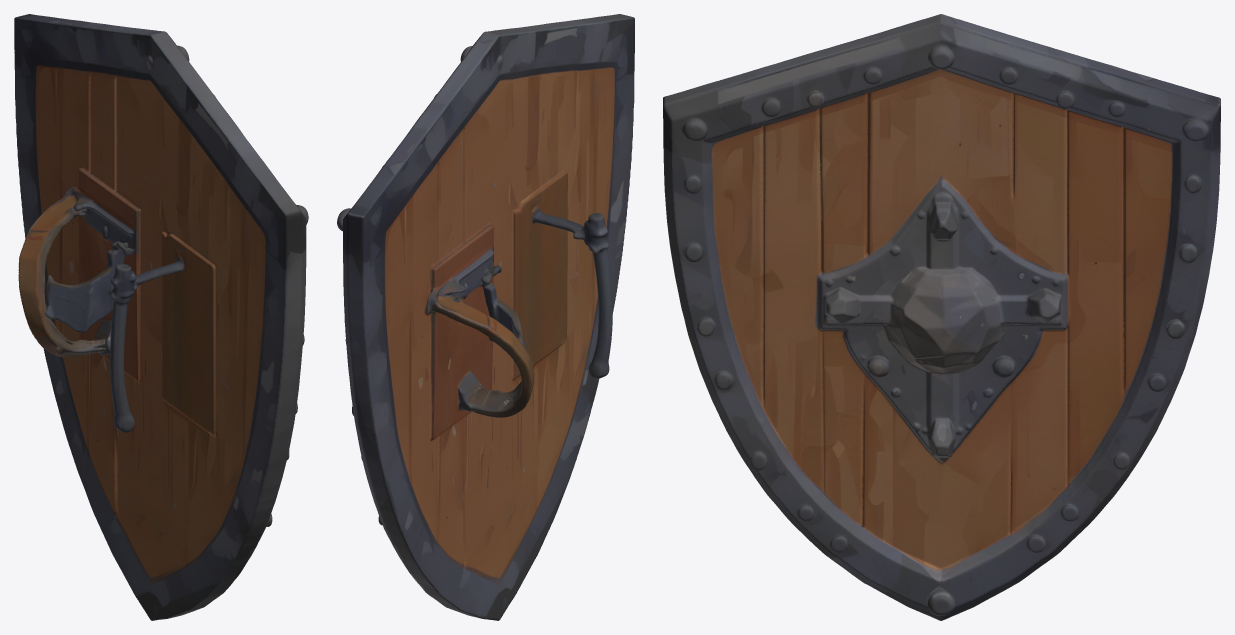
File: gear_shield.glb
3 renders of one model, left to right at view 1: azimuth 30°, elevation 25°; view 2: azimuth 150°, elevation 25°; view 3: azimuth 270°, elevation 25°, orthographic. The views are drawn at different scales.
Parts seen in each view (by area): view 1: tripo_node_a6a886ce-7830-4531-b317-37f9b2584c8d; view 2: tripo_node_a6a886ce-7830-4531-b317-37f9b2584c8d; view 3: tripo_node_a6a886ce-7830-4531-b317-37f9b2584c8d.
Boxes of the visible parts, x1=… form: tripo_node_a6a886ce-7830-4531-b317-37f9b2584c8d: x1=14, y1=14, x2=308, y2=620; tripo_node_a6a886ce-7830-4531-b317-37f9b2584c8d: x1=337, y1=14, x2=634, y2=620; tripo_node_a6a886ce-7830-4531-b317-37f9b2584c8d: x1=663, y1=14, x2=1220, y2=620.
Size of the model in its own units: 0.2364 by 1 by 0.8426.
Materials: 1 (1 with a texture image).
